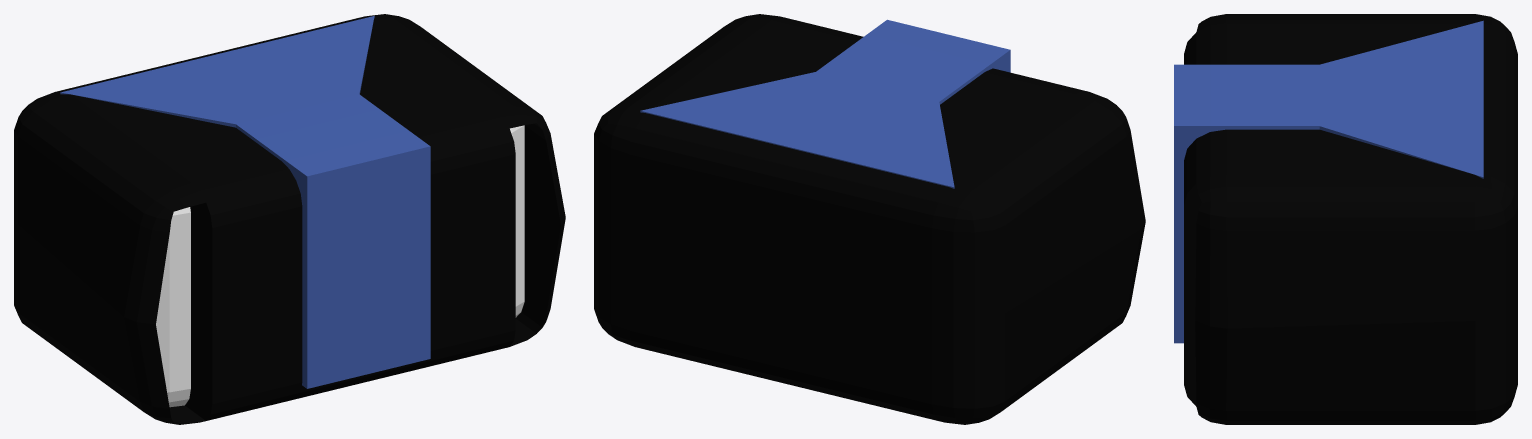
Rendered from SpaceCrate.fbx.
The picture shows the model from 3 angles, left to right: view 1: azimuth 30°, elevation 25°; view 2: azimuth 150°, elevation 25°; view 3: azimuth 270°, elevation 25°; orthographic projection. The views are drawn at different scales.
Visible parts, largest first — view 1: Cube, Cube.001; view 2: Cube, Cube.001; view 3: Cube, Cube.001.
Part boxes in pixels (<box>): Cube: <box>14,14,565,424</box>; Cube.001: <box>60,16,430,388</box>; Cube: <box>594,14,1145,424</box>; Cube.001: <box>640,19,1010,188</box>; Cube: <box>1184,14,1517,424</box>; Cube.001: <box>1174,20,1483,343</box>.
Size of the model in its own units: 620 by 324 by 412.
